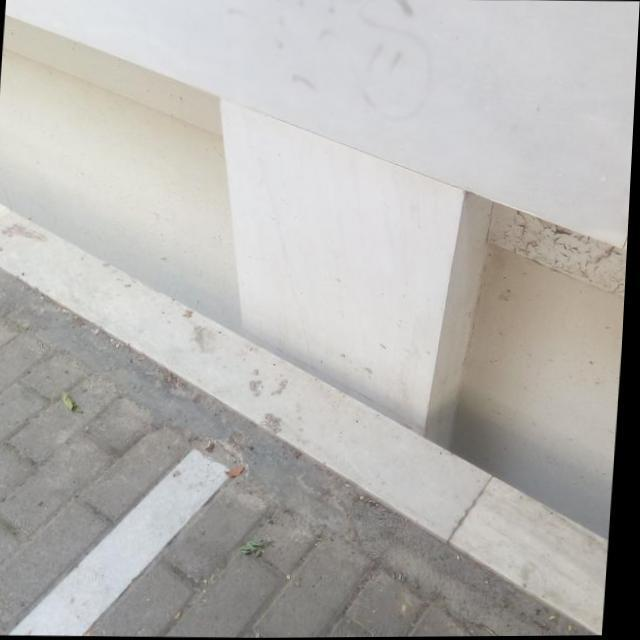-: (185, 0, 436, 120)
